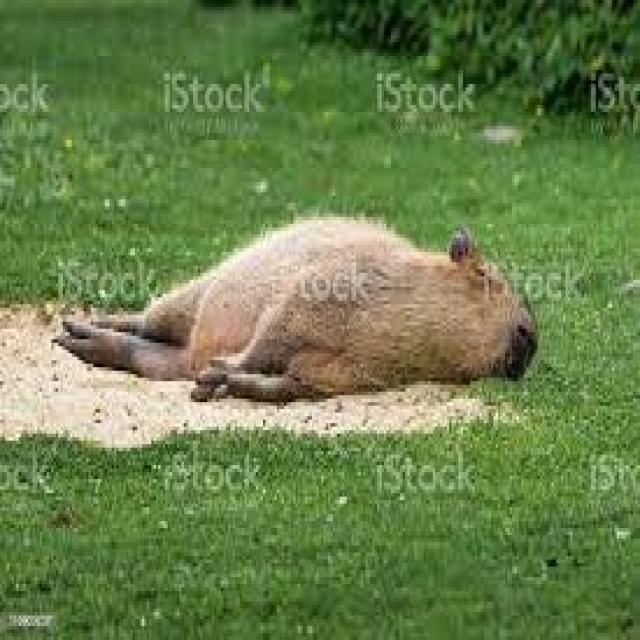capy: (57, 208, 542, 406)
